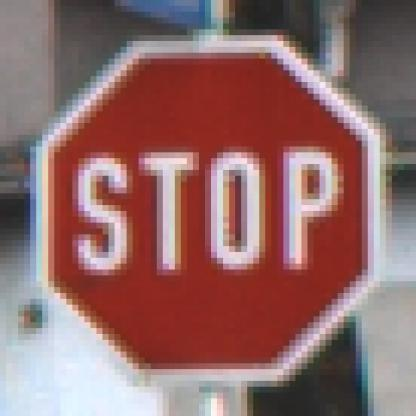Stop: (37, 45, 374, 378)
